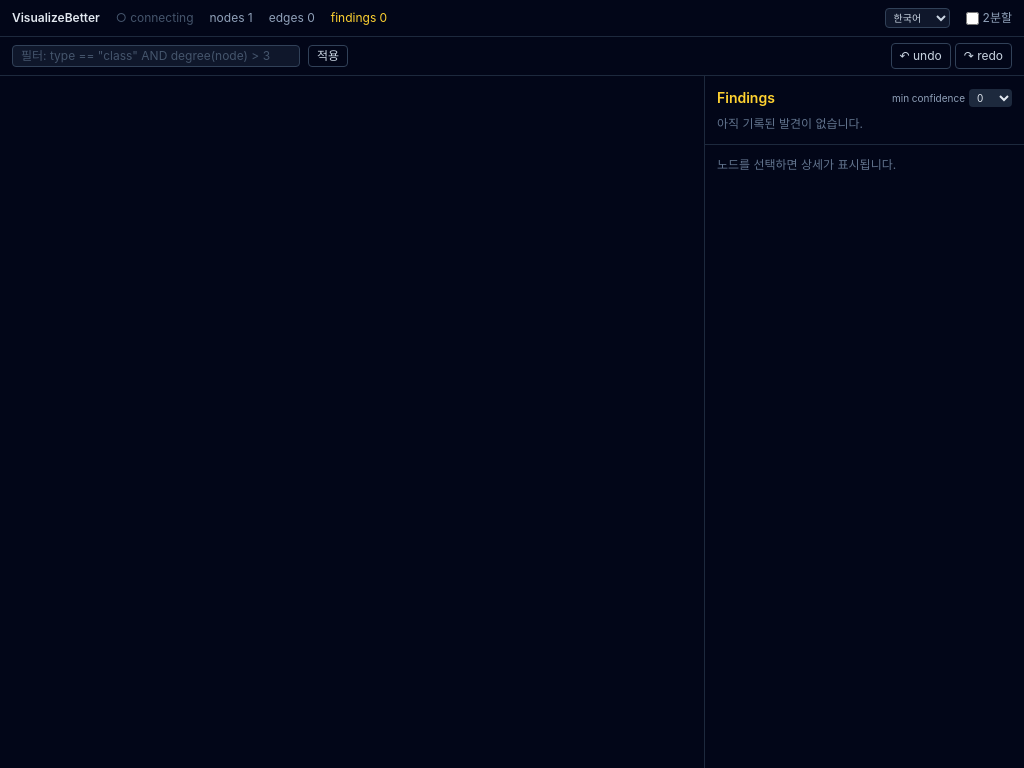
[7-C] 2분할 모드 ([9-C] viewMode) › closing the detail while split leaves split mode
The image size is (1024, 768).
Click the checkbox named "split view" at (972, 18), box [966,12,979,24]
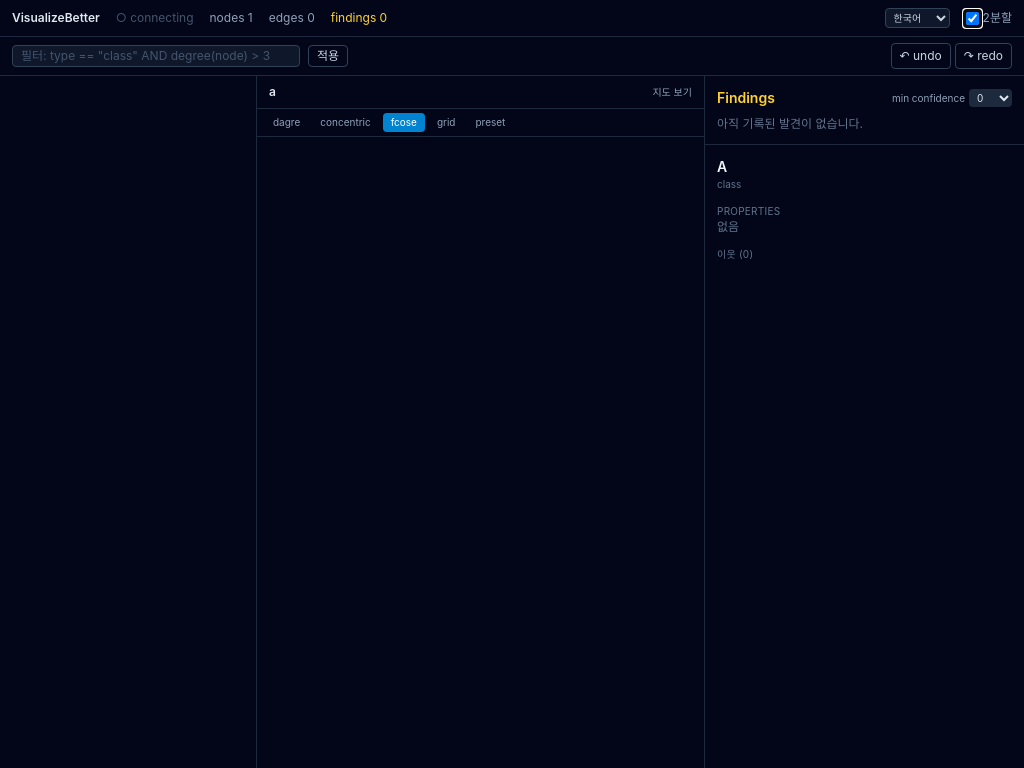
Click the button with test id "detail-close" at (672, 92), box [652,84,692,100]
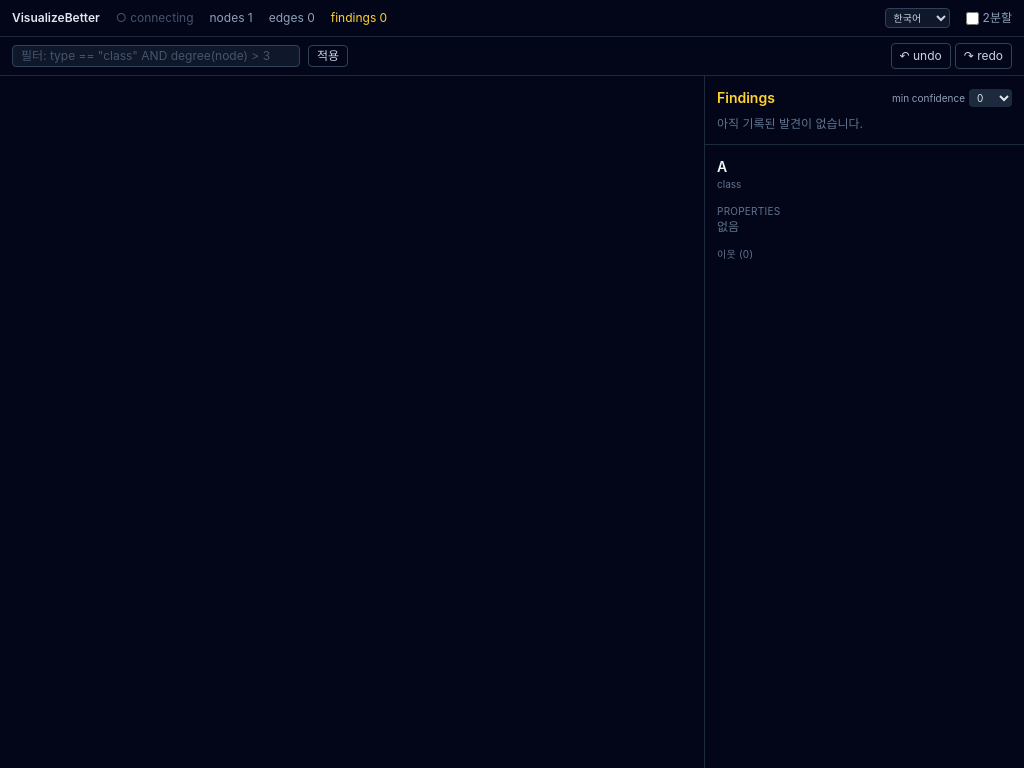
Result: the element with test id "detail-panel" is gone
